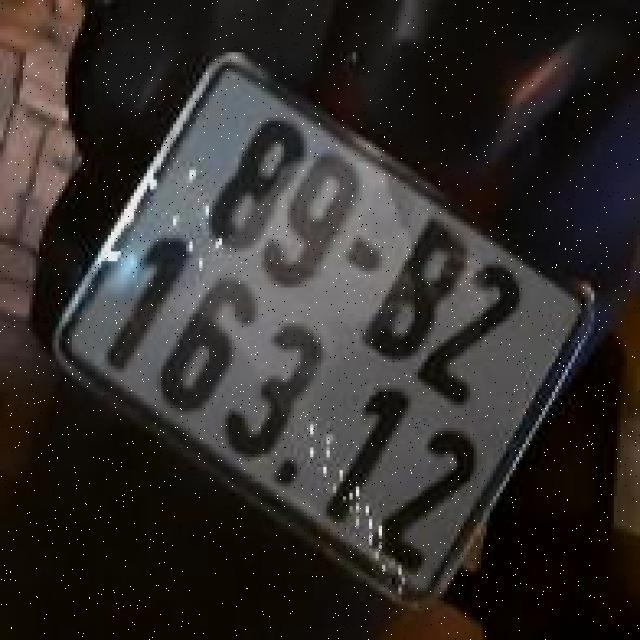1: (301, 372, 419, 534), (86, 220, 204, 379)
2: (357, 417, 501, 584), (407, 253, 539, 416)
3: (208, 310, 336, 474)
6: (142, 263, 274, 429)
8: (186, 108, 323, 271)
9: (245, 141, 374, 304)
B: (343, 207, 478, 379)
